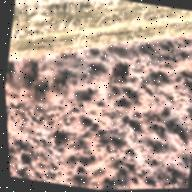boar: (46, 61, 82, 101), (106, 50, 139, 93), (3, 49, 26, 90), (22, 61, 45, 93), (34, 78, 54, 99)
